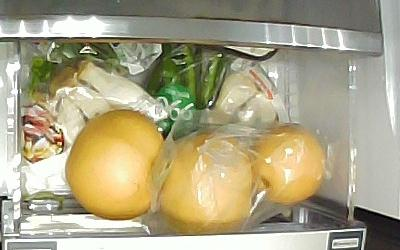pear: (65, 109, 167, 222)
pear_vinyl: (158, 133, 253, 235), (250, 122, 328, 206)
